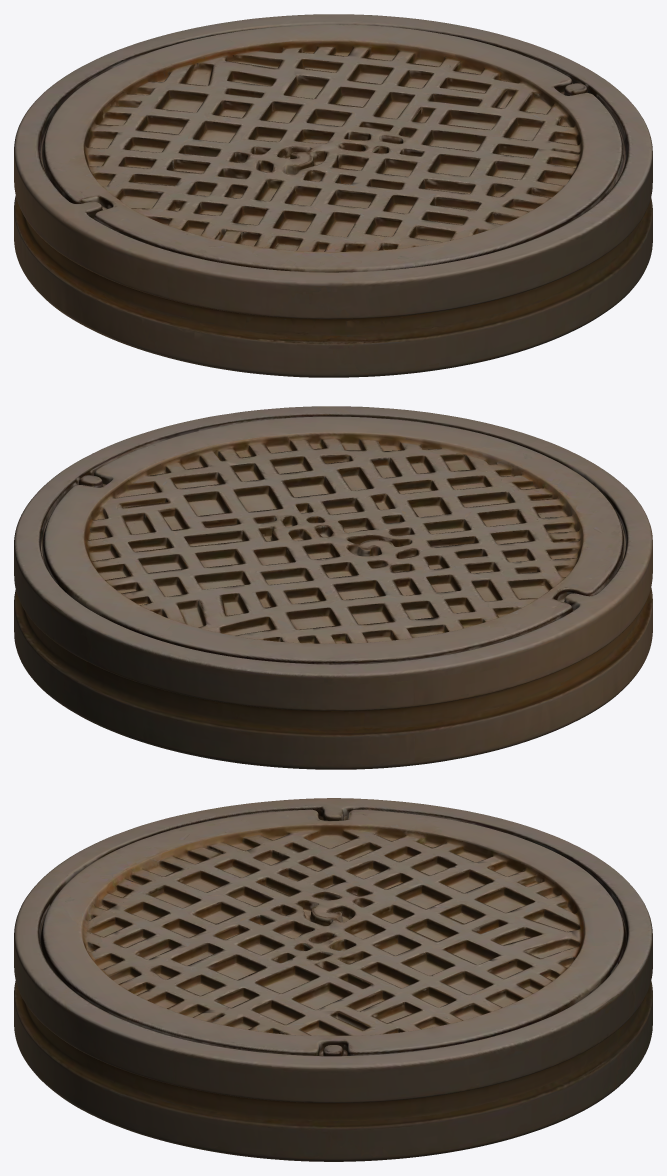
The model's file is A_round_cast-iron_Hong_Kong_manhole_cover_with_a_simple_geometric_grid_pattern.glb.
3 renders of one model, top to bottom at view 1: azimuth 30°, elevation 25°; view 2: azimuth 150°, elevation 25°; view 3: azimuth 270°, elevation 25°, orthographic.
Parts seen in each view (by area): view 1: node_0; view 2: node_0; view 3: node_0.
Boxes of the visible parts, <box> form: node_0: <box>14,14,652,377</box>; node_0: <box>14,406,652,769</box>; node_0: <box>14,798,652,1161</box>.
Bounding box in the file's own units: 1.18 × 0.2036 × 1.18.
Materials: 1 (1 with a texture image).
